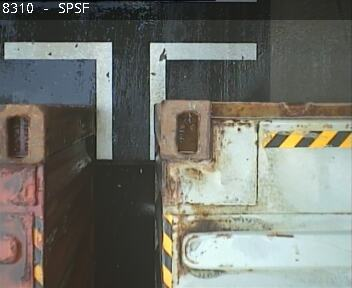groundmarker_1: (4, 42, 255, 158)
